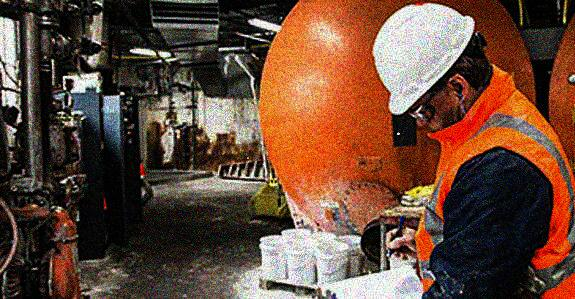helmet: (370, 2, 491, 130)
